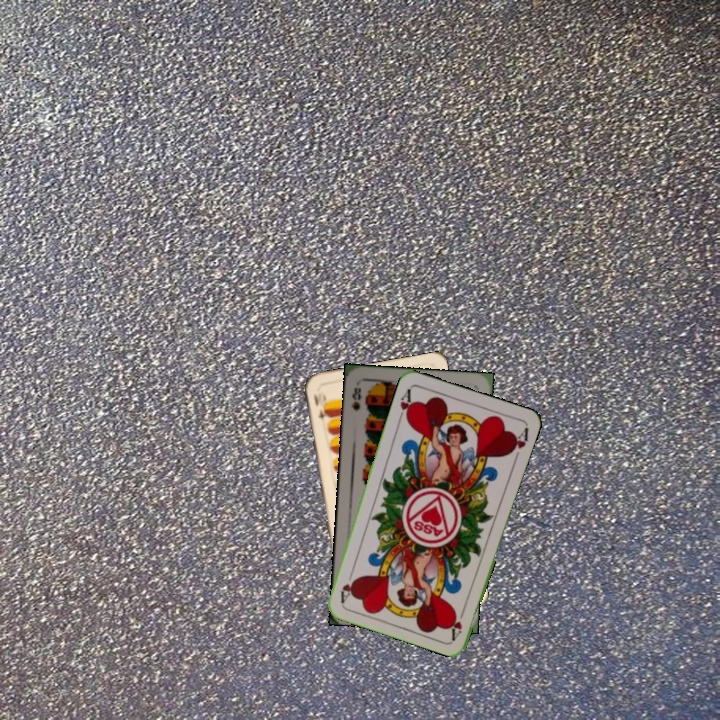E10: (309, 389, 330, 427)
HA: (394, 384, 416, 424), (447, 602, 469, 641)
S8: (347, 384, 365, 414)
